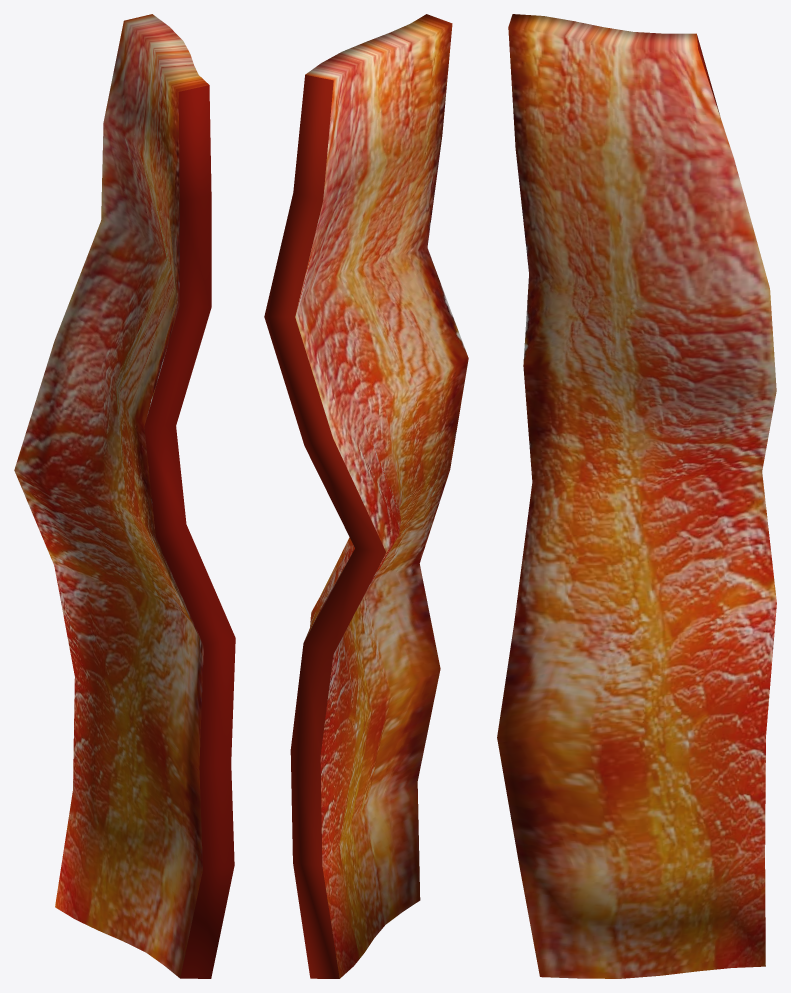
Rendered from bacon.glb.
3 renders of one model, left to right at view 1: azimuth 30°, elevation 25°; view 2: azimuth 150°, elevation 25°; view 3: azimuth 270°, elevation 25°, orthographic. The views are drawn at different scales.
Visible parts, largest first — view 1: Plane; view 2: Plane; view 3: Plane.
Part boxes in pixels (<box>): Plane: <box>14,14,235,978</box>; Plane: <box>264,14,468,978</box>; Plane: <box>497,14,776,978</box>.
Size of the model in its own units: 0.4353 by 2.77 by 0.7453.
Materials: 1 (1 with a texture image).
